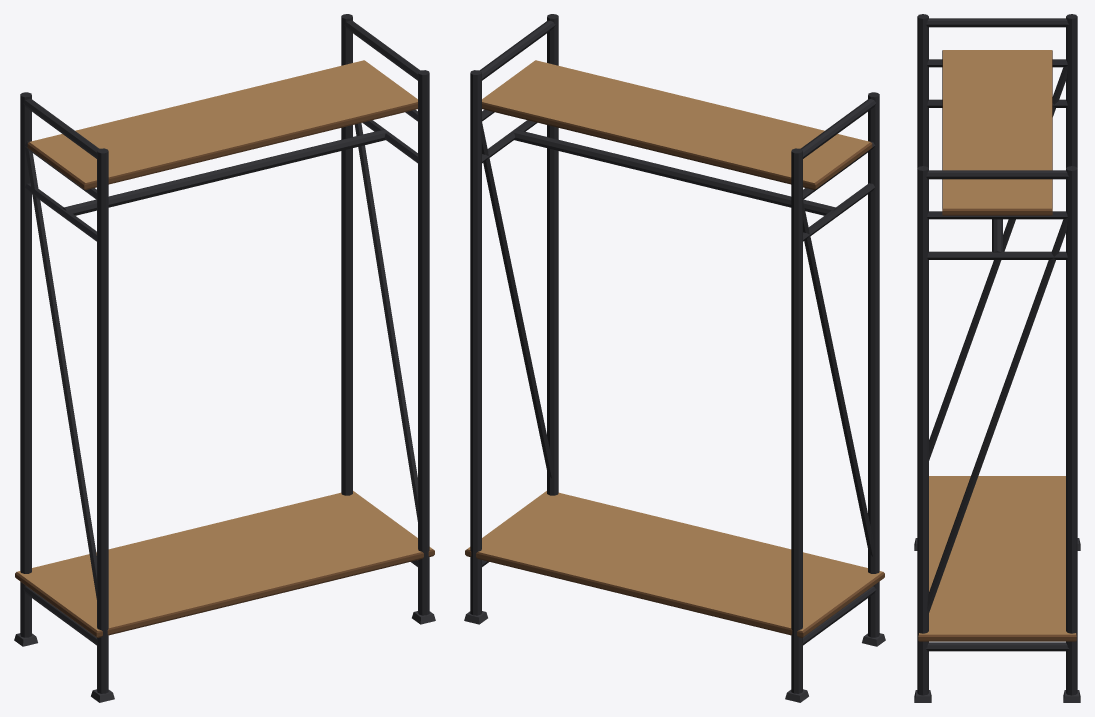
The model's file is FN_Rail_Garment.obj.
3 renders of one model, left to right at view 1: azimuth 30°, elevation 25°; view 2: azimuth 150°, elevation 25°; view 3: azimuth 270°, elevation 25°, orthographic. The views are drawn at different scales.
Visible parts, largest first — view 1: FN_Rail_Garment; view 2: FN_Rail_Garment; view 3: FN_Rail_Garment.
Part boxes in pixels (left/top/right/bottom): FN_Rail_Garment: left=14, top=14, right=435, bottom=702; FN_Rail_Garment: left=464, top=14, right=885, bottom=702; FN_Rail_Garment: left=914, top=14, right=1080, bottom=702.
Size of the model in its own units: 1.1 by 1.7 by 0.482.
1 material, 1 textured.
